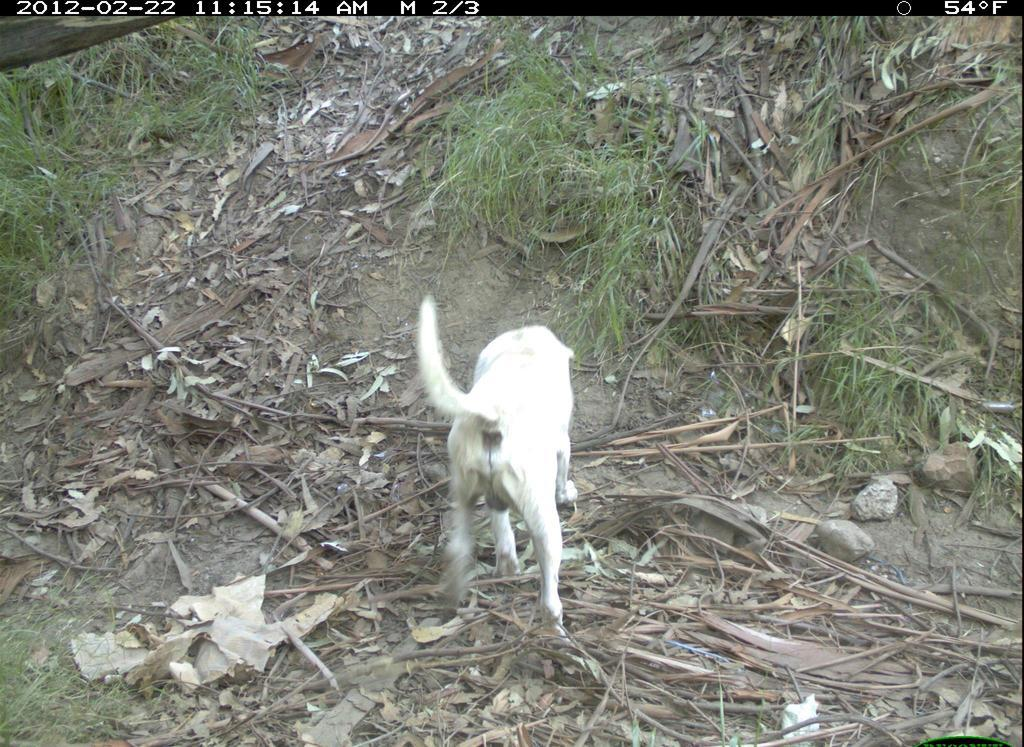dog: (406, 294, 596, 651)
